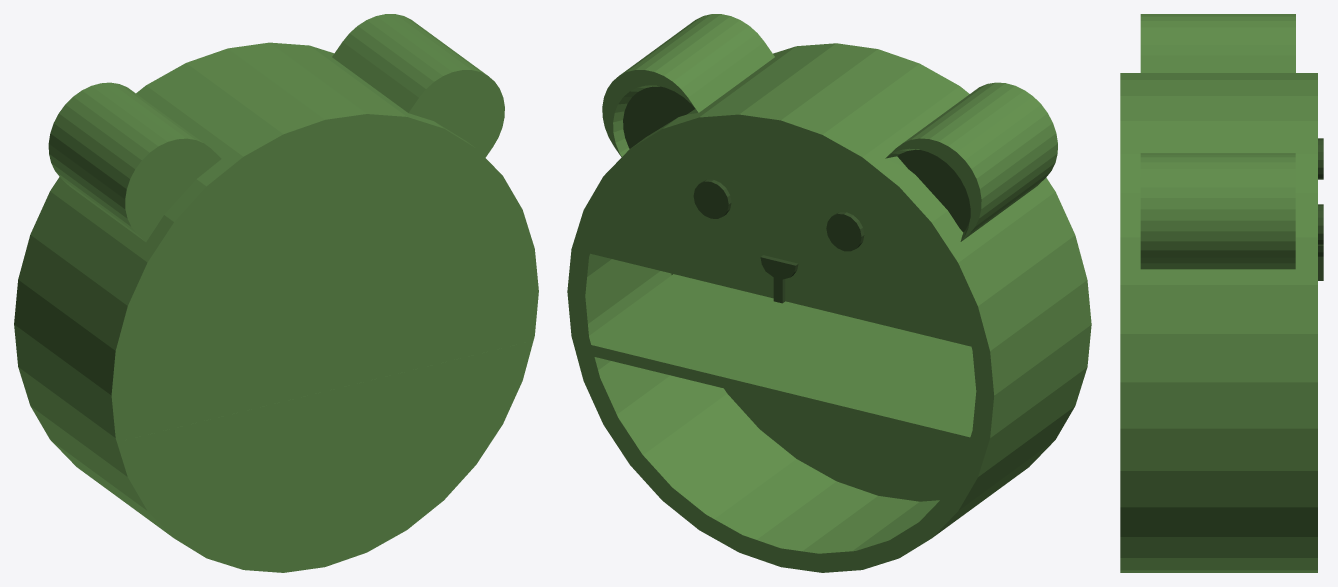
Rendered from PrateleiraUrso.fbx.
The picture shows the model from 3 angles, left to right: view 1: azimuth 30°, elevation 25°; view 2: azimuth 150°, elevation 25°; view 3: azimuth 270°, elevation 25°; orthographic projection.
Parts seen in each view (by area): view 1: Cube.010; view 2: Cube.010; view 3: Cube.010.
Boxes of the visible parts, box(x1,y1,x2,y2) form: Cube.010: box(14, 14, 538, 572); Cube.010: box(567, 14, 1091, 572); Cube.010: box(1120, 14, 1323, 572).
Bounding box in the file's own units: 721 × 732 × 293.
